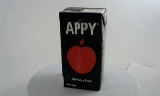appy: (53, 5, 100, 91)
